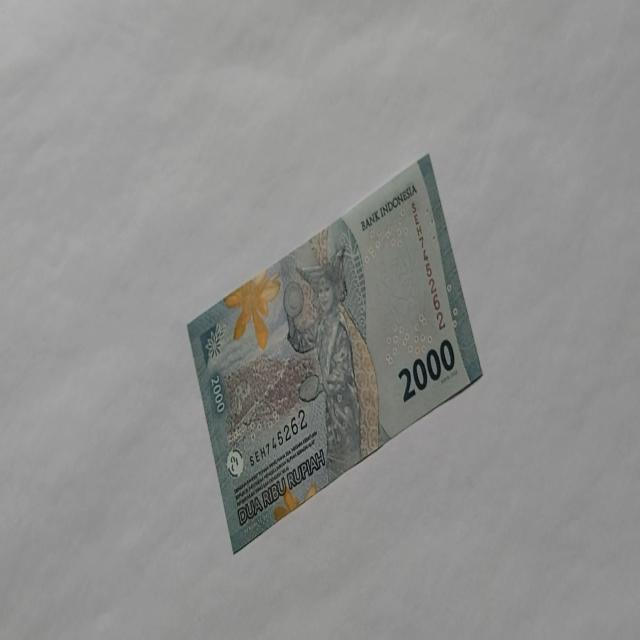dua ribu rupiah: (185, 151, 483, 554), (282, 245, 380, 484)
